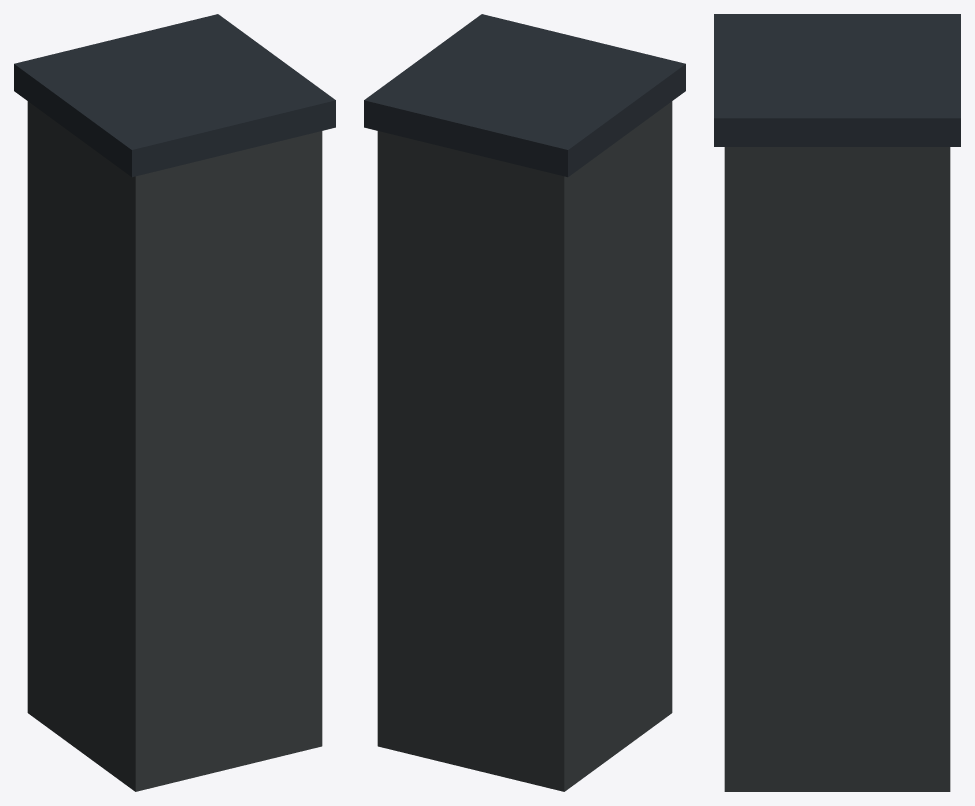
The model's file is pillar_box.glb.
The picture shows the model from 3 angles, left to right: view 1: azimuth 30°, elevation 25°; view 2: azimuth 150°, elevation 25°; view 3: azimuth 270°, elevation 25°; orthographic projection. The views are drawn at different scales.
Parts seen in each view (by area): view 1: body; view 2: body; view 3: body.
Part boxes in pixels (x1,y1,x2,y2): body: (14,14,335,791); body: (364,14,685,791); body: (714,14,960,791).
Bounding box in the file's own units: 0.47 × 1.43 × 0.47.
Materials: 1 (1 with a texture image).
